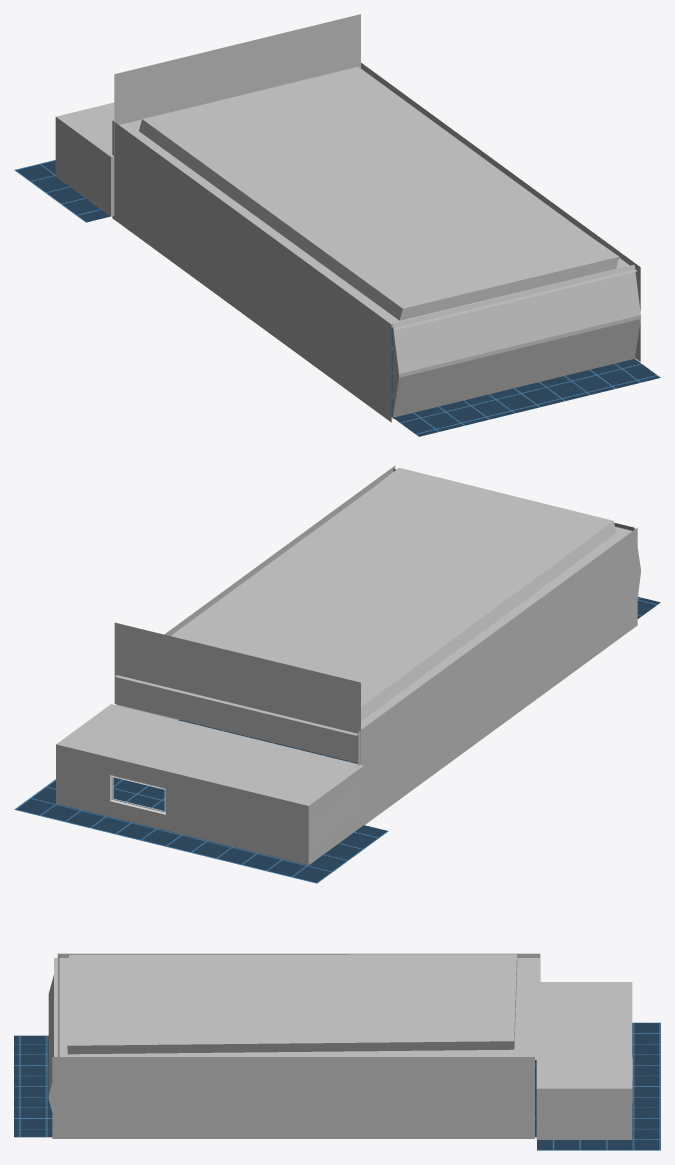
Rendered from BetterRoom.fbx.
3 views of the same model, one above another, from view 1: azimuth 30°, elevation 25°; view 2: azimuth 150°, elevation 25°; view 3: azimuth 270°, elevation 25° (orthographic). The views are drawn at different scales.
Visible parts, largest first — view 1: Roof, Room1.001, Roomback, Roof2.001, Floor, Room1, Room1.002, Roof2; view 2: Roof, Room1.001, Roof2.001, Room1, Roof2, Floor, Room1.002; view 3: Roof, Room1.002, Roof2, Floor, Room1, Room1.001, Roomback.
Boxes of the visible parts, left/top/right/bottom form: Roof: left=119, top=66, right=637, bottom=329; Room1.001: left=112, top=120, right=391, bottom=422; Roomback: left=392, top=264, right=640, bottom=418; Roof2.001: left=114, top=14, right=360, bottom=155; Floor: left=14, top=160, right=660, bottom=436; Room1: left=55, top=117, right=114, bottom=216; Room1.002: left=361, top=63, right=640, bottom=361; Roof2: left=56, top=102, right=114, bottom=156; Roof: left=115, top=467, right=632, bottom=735; Room1.001: left=358, top=528, right=637, bottom=824; Roof2.001: left=114, top=622, right=360, bottom=763; Room1: left=56, top=744, right=363, bottom=865; Roof2: left=56, top=704, right=363, bottom=805; Floor: left=14, top=597, right=660, bottom=883; Room1.002: left=116, top=466, right=395, bottom=719; Roof: left=54, top=954, right=540, bottom=1059; Room1.002: left=52, top=1057, right=534, bottom=1138; Roof2: left=536, top=982, right=632, bottom=1088; Floor: left=14, top=1022, right=660, bottom=1150; Room1: left=536, top=1088, right=632, bottom=1139; Room1.001: left=57, top=953, right=540, bottom=957; Roomback: left=48, top=955, right=59, bottom=1111.
Bounding box in the file's own units: 5504 × 2524 × 11769.
